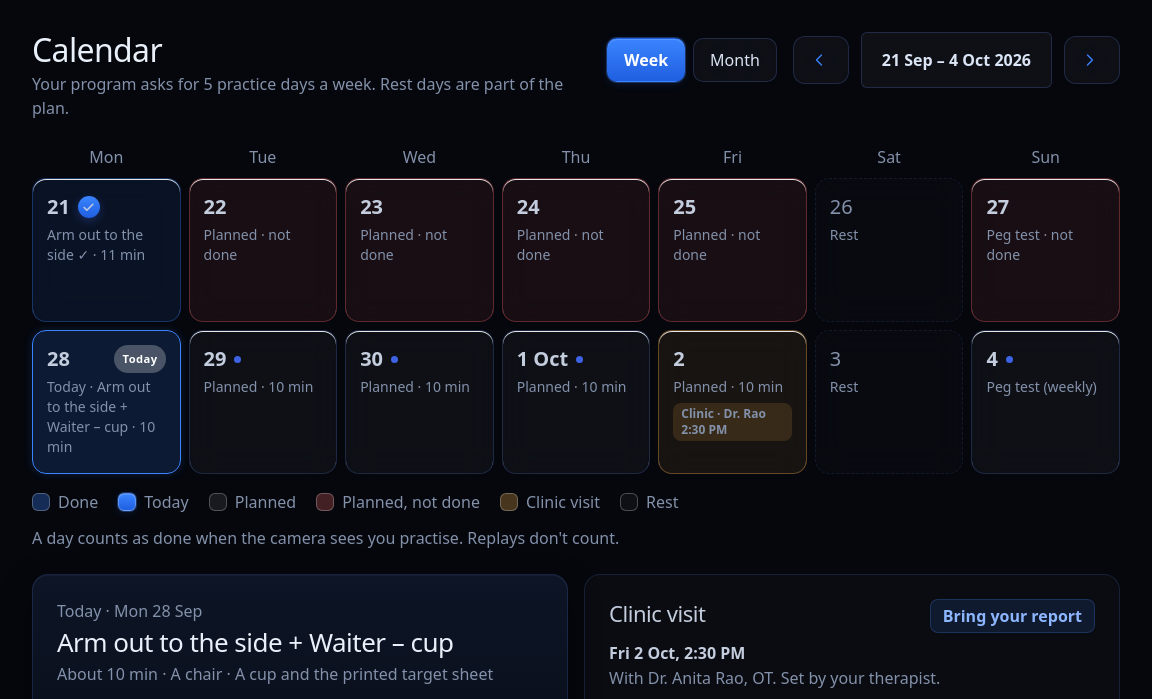
Test: month view: whole weeks, compact words, sample days labelled and never done
Expected: the text "21 Sep – 4 Oct 2026" is shown, [861,32,1052,88]
What coordinates should you click on to do the following:
click the radio button labelled "Month"
I would click on:
 (735, 60)
Its box is [693,38,777,82].
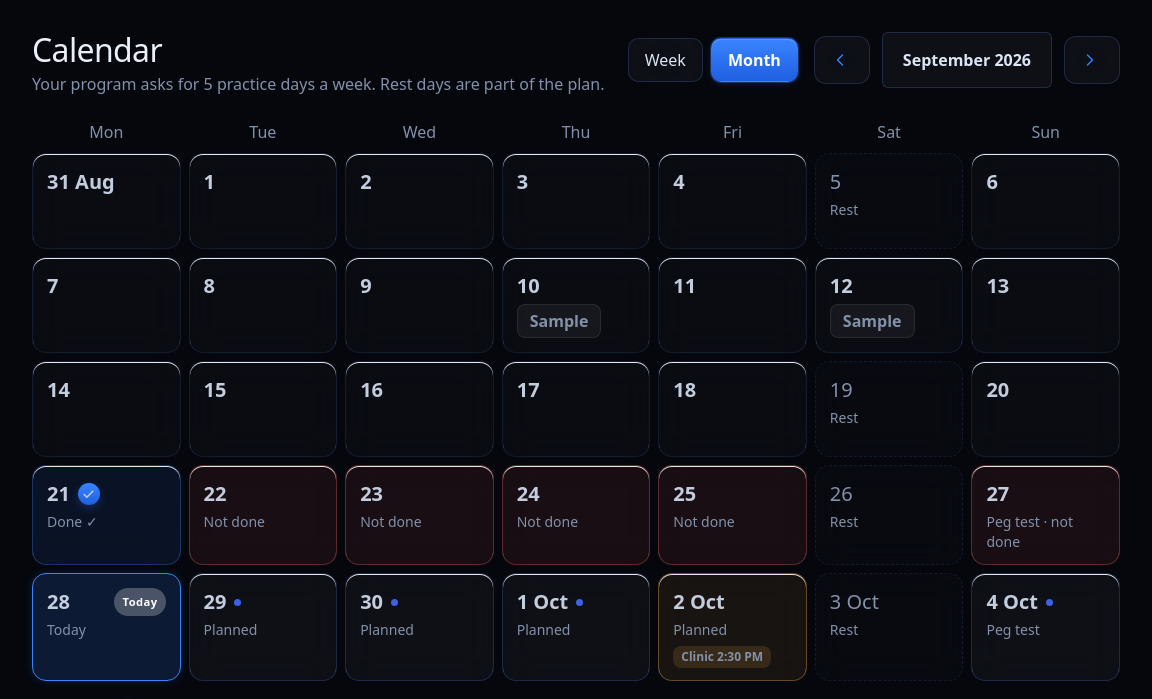
Result: the text "September 2026" is shown at [882,32,1052,88]
What coordinates should you click on to do the following:
click the button named "Previous month"
I would click on:
 (842, 60)
Its box is [814,36,870,84].
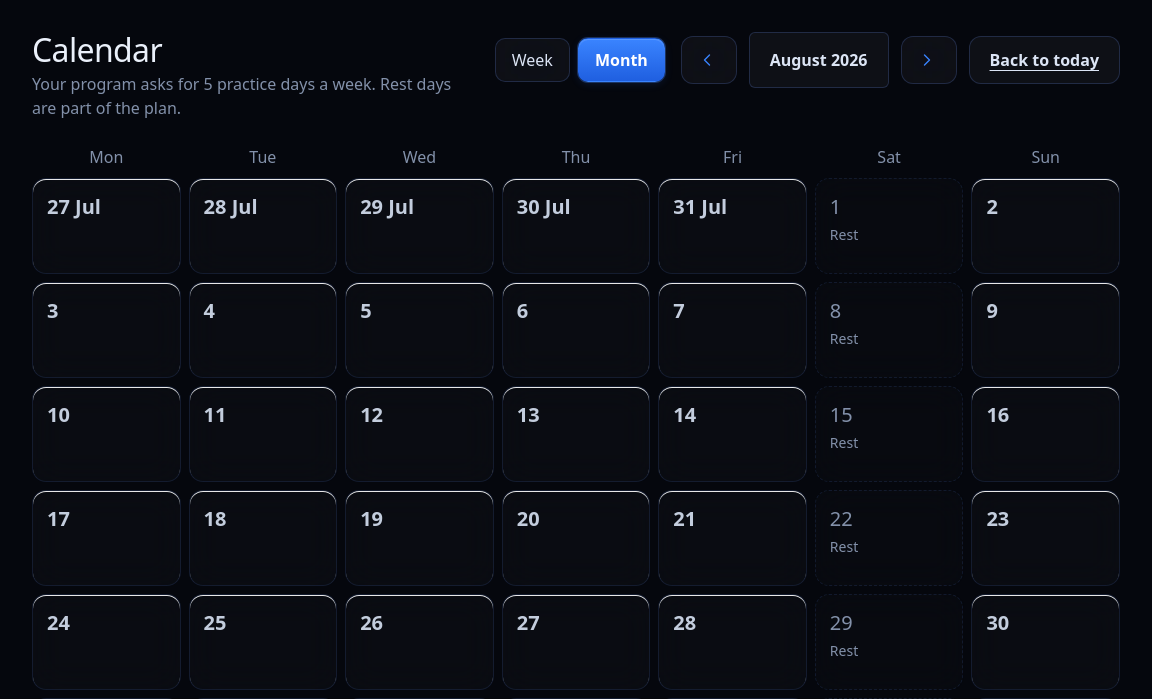
Result: the text "August 2026" is shown at [749,32,889,88]
